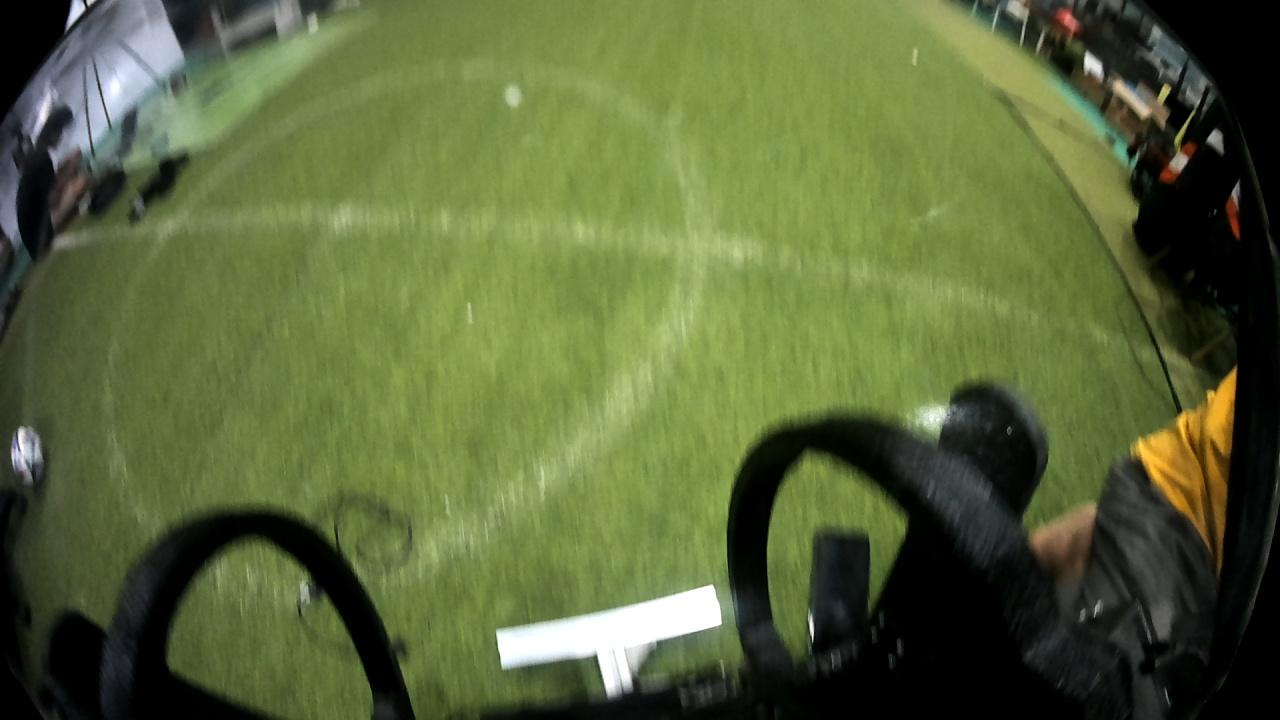ball: (7, 423, 48, 493)
